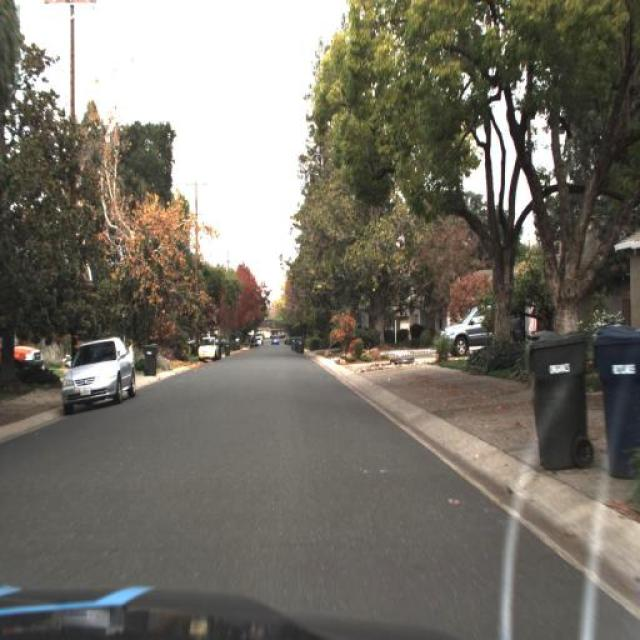car: (59, 334, 137, 410), (434, 302, 526, 357), (197, 335, 219, 361)
